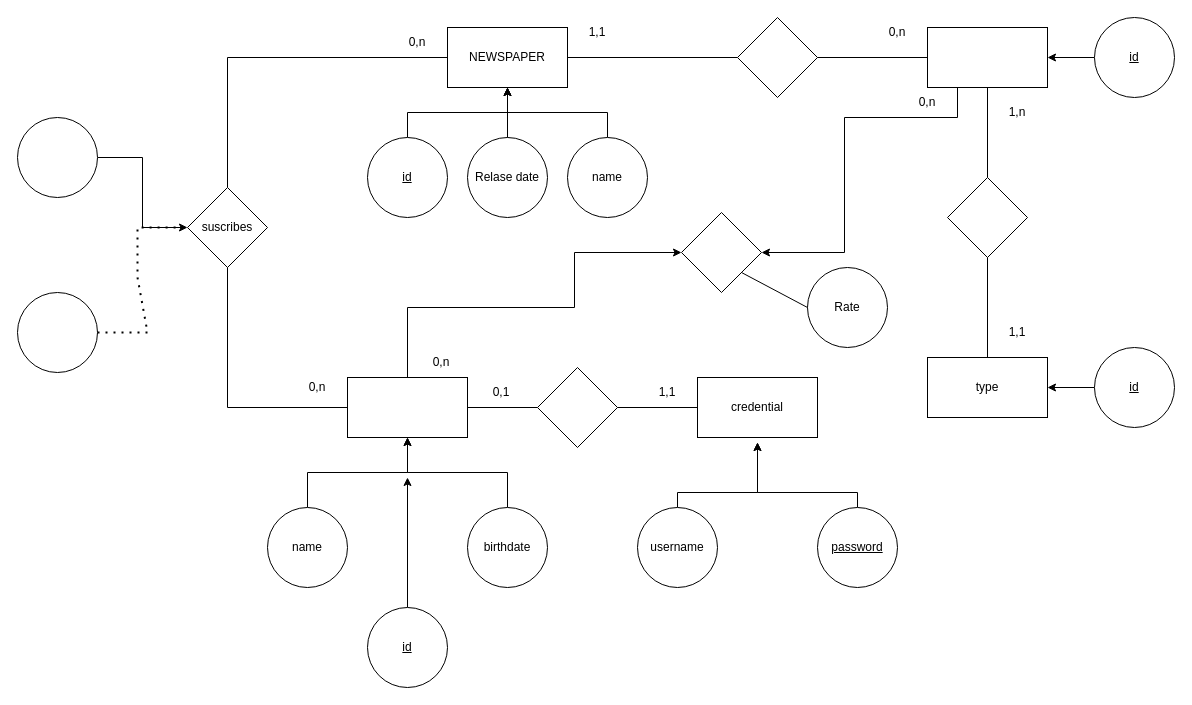
Some shapes in this 1192 by 705 pixel diagram are drawn without their labels. The shapes that lost their labels are listed below. From the top down, each one's centre as x and y in pixels, then its label:
At point (777, 57): "Publish".
At point (987, 57): "Article".
At point (57, 157): "initial_Date".
At point (987, 217): "have".
At point (721, 252): "Read".
At point (57, 332): "final_Date".
At point (407, 407): "reader".
At point (577, 407): "login".
